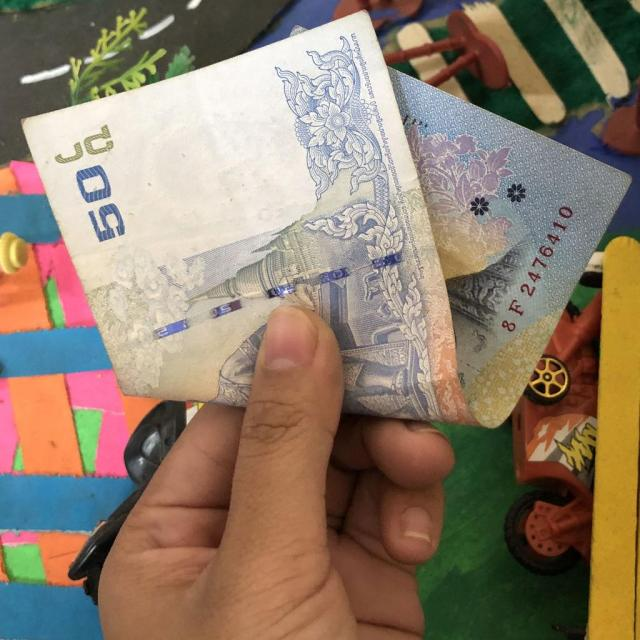THAI50: (21, 11, 632, 432)
